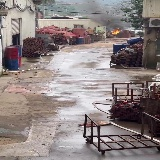fire: (111, 30, 119, 34)
